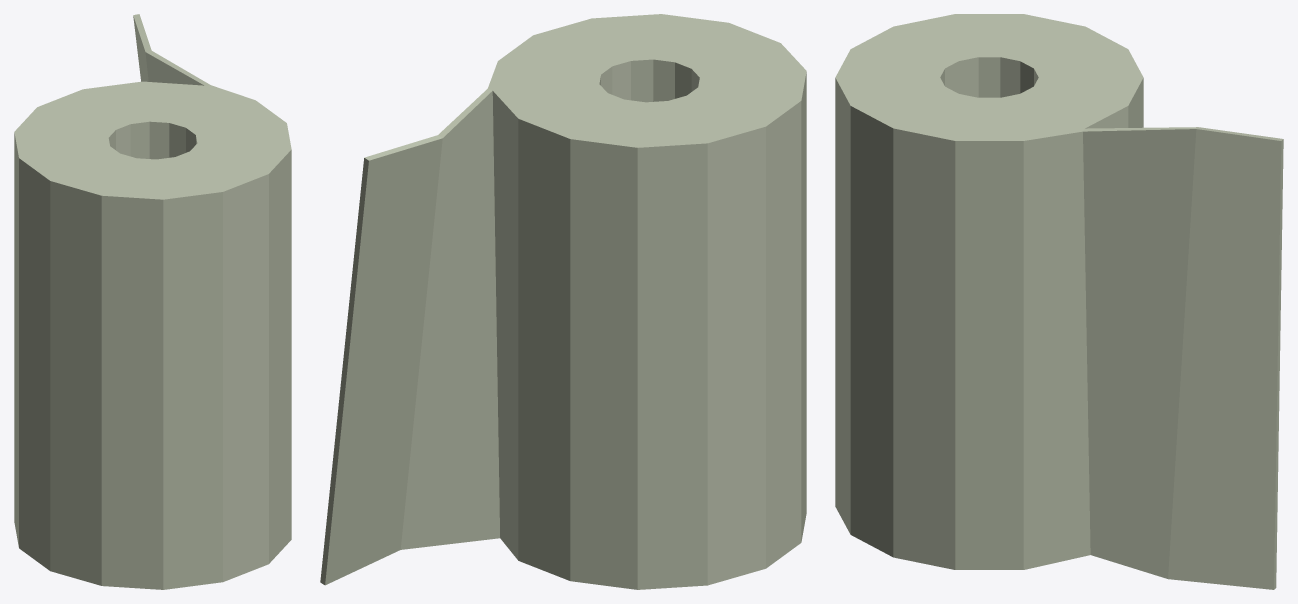
The model's file is Paper.fbx.
The picture shows the model from 3 angles, left to right: view 1: azimuth 30°, elevation 25°; view 2: azimuth 150°, elevation 25°; view 3: azimuth 270°, elevation 25°; orthographic projection. The views are drawn at different scales.
Parts seen in each view (by area): view 1: Cylinder; view 2: Cylinder; view 3: Cylinder.
Part boxes in pixels (x1,y1,x2,y2): Cylinder: (14,14,291,589); Cylinder: (320,14,806,589); Cylinder: (835,14,1283,589).
Size of the model in its own units: 230 by 307 by 291.
